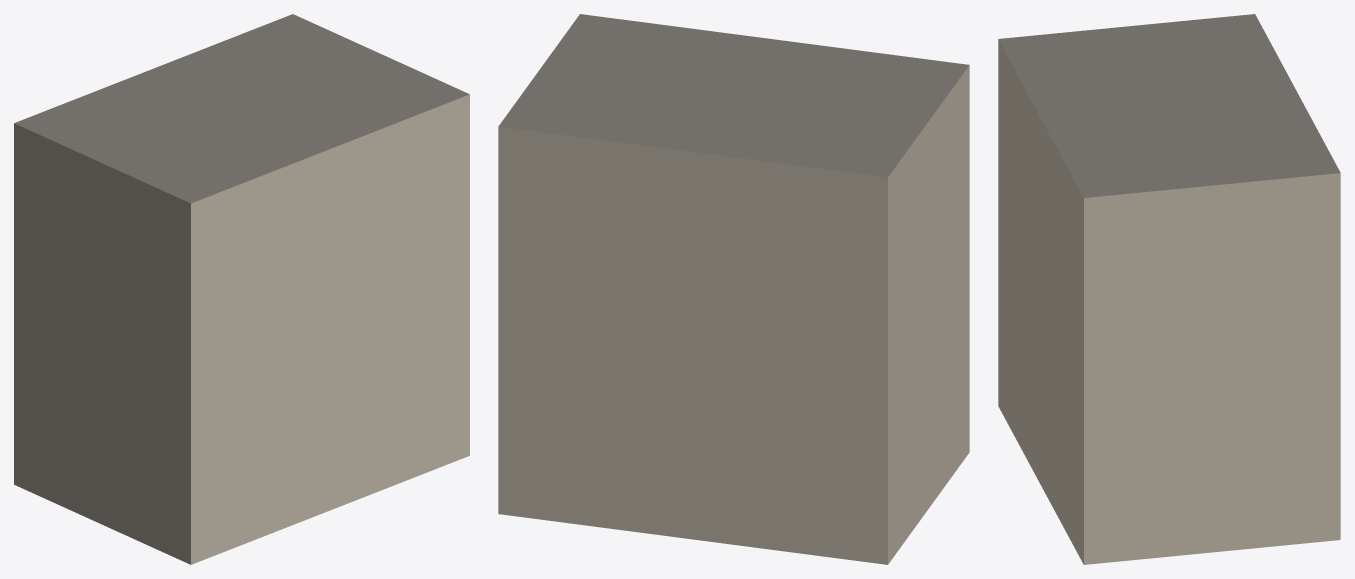
The picture shows the model from 3 angles, left to right: view 1: azimuth 30°, elevation 25°; view 2: azimuth 150°, elevation 25°; view 3: azimuth 270°, elevation 25°; orthographic projection. The views are drawn at different scales.
Visible parts, largest first — view 1: HP-w1424106438; view 2: HP-w1424106438; view 3: HP-w1424106438.
Part boxes in pixels (x1,y1,x2,y2): HP-w1424106438: (14,14,469,564); HP-w1424106438: (498,14,969,564); HP-w1424106438: (998,14,1340,564).
Bounding box in the file's own units: 12.91 × 12 × 10.16.
